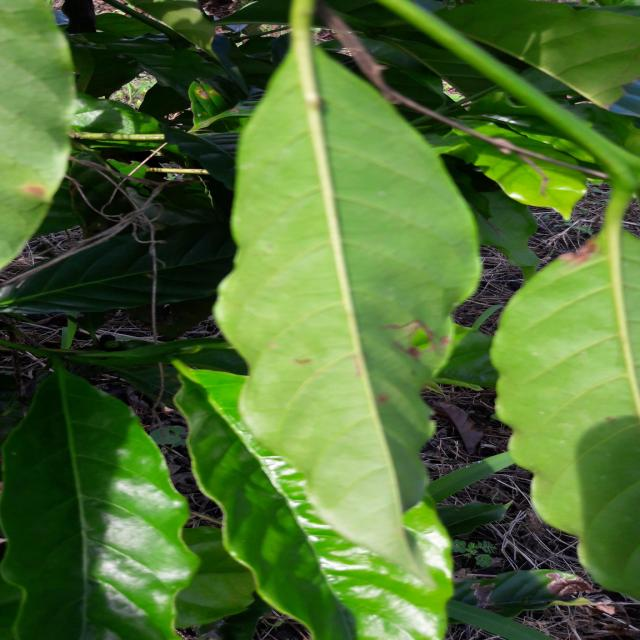Enfermedad-Roya: (222, 0, 483, 572)
